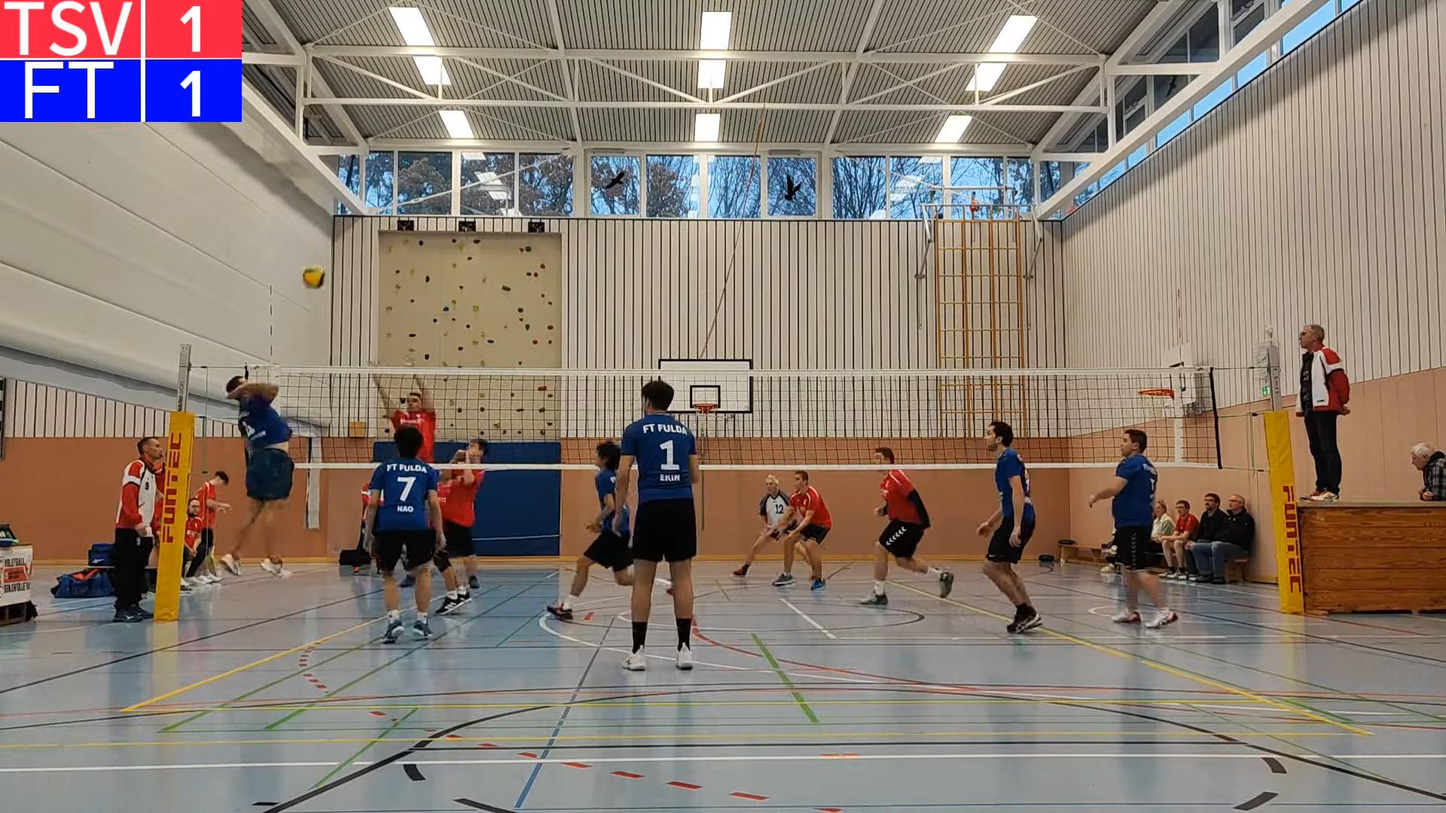Attack: (219, 375, 310, 580)
Block: (364, 351, 444, 464)
Player: (615, 380, 700, 670), (1088, 429, 1177, 628), (366, 427, 444, 643), (548, 441, 633, 620), (859, 446, 953, 605), (978, 420, 1042, 632), (434, 467, 483, 614), (772, 470, 831, 589), (733, 474, 791, 576)
ball: (302, 266, 330, 287)
